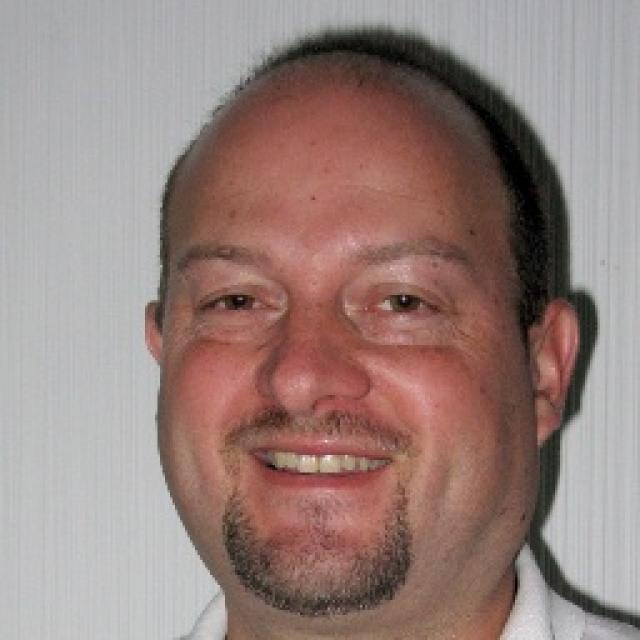earlobe: (528, 296, 582, 449), (142, 303, 168, 425)
